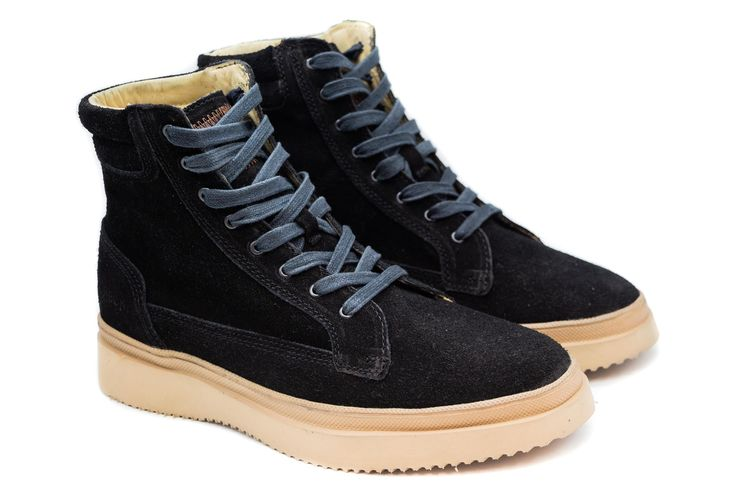gamuza: (78, 20, 639, 409)
